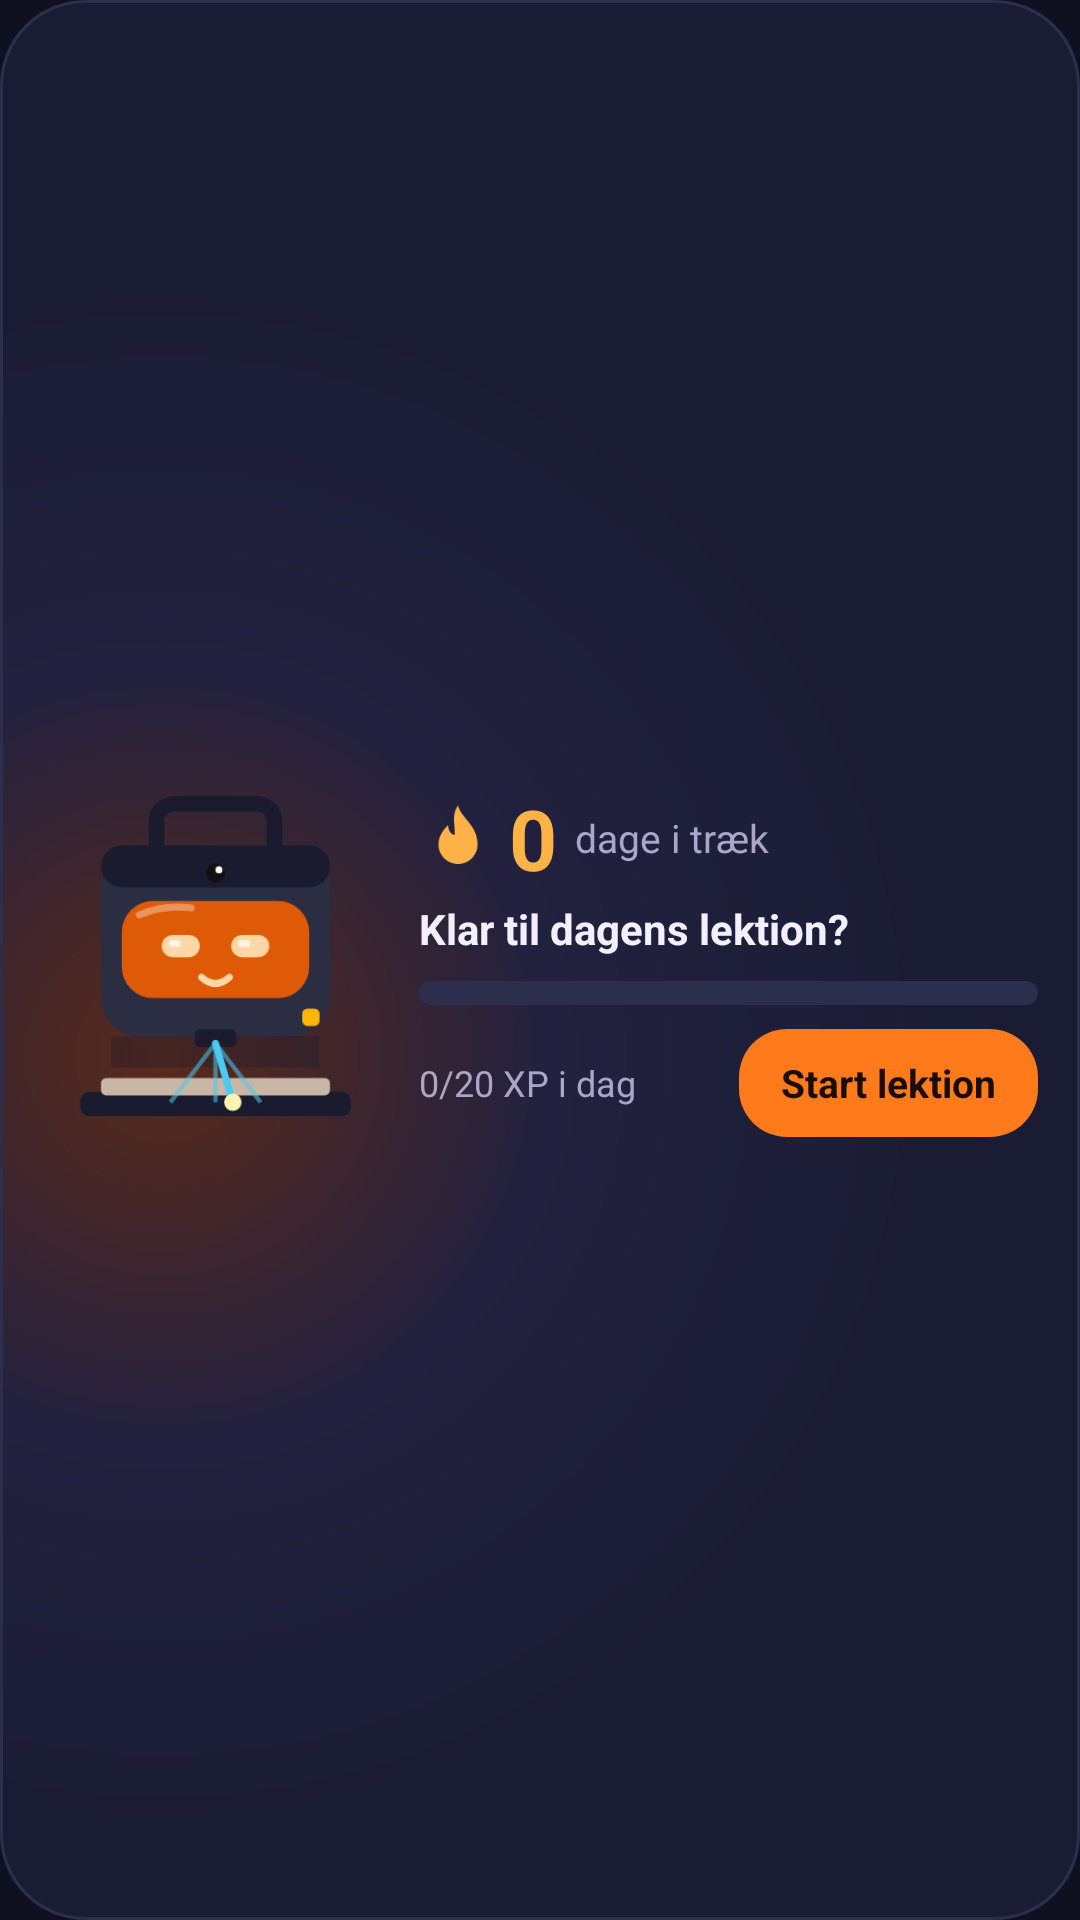

Named icons in this screenshot (1080w x 1920h) and their bounding boxes, (x1, y1, x2, y2):
Streak: (438, 805, 478, 864)
